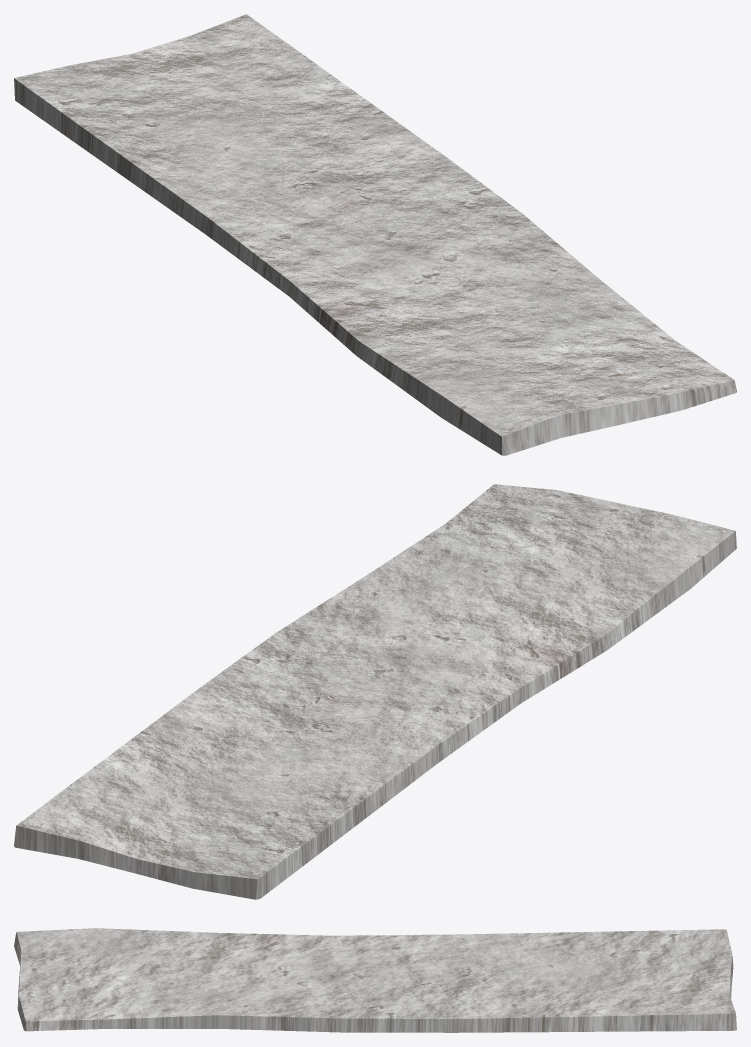
Rendered from tile1_LOD2.FBX.
3 renders of one model, top to bottom at view 1: azimuth 30°, elevation 25°; view 2: azimuth 150°, elevation 25°; view 3: azimuth 270°, elevation 25°, orthographic. The views are drawn at different scales.
Visible parts, largest first — view 1: tile1_LOD2; view 2: tile1_LOD2; view 3: tile1_LOD2.
Part boxes in pixels (left/top/right/bottom): tile1_LOD2: left=14, top=14, right=736, bottom=455; tile1_LOD2: left=14, top=484, right=736, bottom=899; tile1_LOD2: left=14, top=928, right=736, bottom=1032.
Bounding box in the file's own units: 51.54 × 4.4 × 174.
